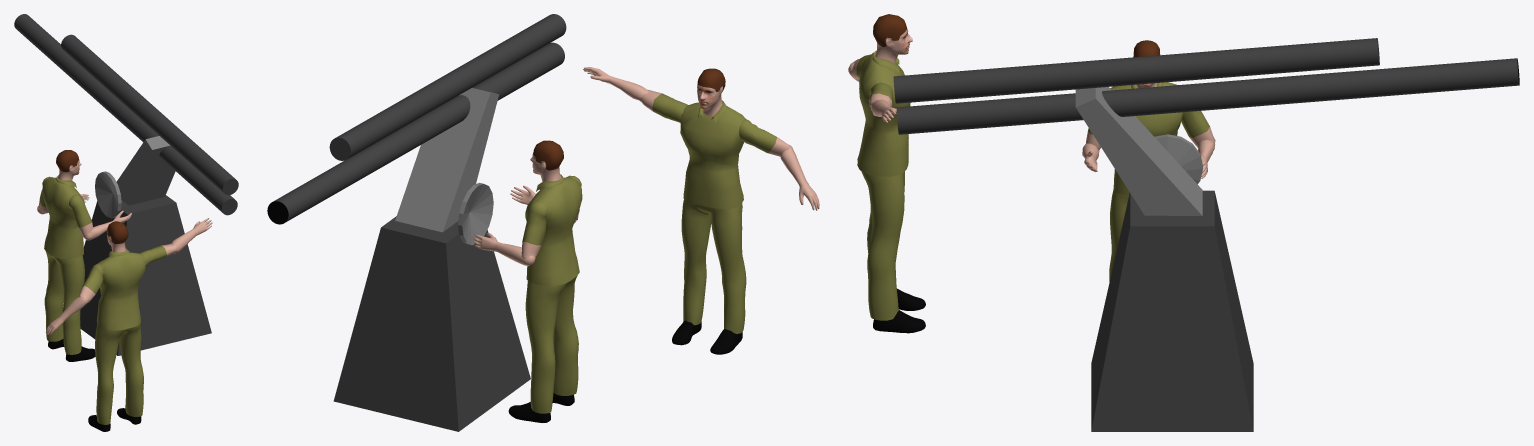
Rendered from gunAA_crew.glb.
The picture shows the model from 3 angles, left to right: view 1: azimuth 30°, elevation 25°; view 2: azimuth 150°, elevation 25°; view 3: azimuth 270°, elevation 25°; orthographic projection. The views are drawn at different scales.
Visible parts, largest first — view 1: base, barrel, crew1, crew2, rotator, Cylinder.001, head.001, armR.001, head.010, armL.010, armL2.010, armR2.010 (+4 smaller); view 2: base, barrel, crew1, crew2, rotator, Cylinder.001, head.001, head.010, armL.001, shoes.010, armL.010, armR.010 (+4 smaller); view 3: base, barrel, crew1, rotator, crew2, head.010, shoes.010, Cylinder.001, armL.001.
Boxes of the visible parts, left/top/right/bottom form: base: left=80, top=195, right=211, bottom=355; barrel: left=14, top=14, right=238, bottom=215; crew1: left=95, top=252, right=145, bottom=424; crew2: left=42, top=177, right=84, bottom=354; rotator: left=116, top=136, right=175, bottom=205; Cylinder.001: left=95, top=171, right=121, bottom=218; head.001: left=56, top=150, right=81, bottom=180; armR.001: left=69, top=194, right=93, bottom=237; head.010: left=107, top=221, right=128, bottom=252; armL.010: left=78, top=264, right=103, bottom=302; armL2.010: left=46, top=296, right=88, bottom=335; armR2.010: left=171, top=218, right=212, bottom=253; base: left=333, top=216, right=530, bottom=431; barrel: left=267, top=14, right=566, bottom=224; crew1: left=680, top=102, right=746, bottom=333; crew2: left=525, top=177, right=582, bottom=413; rotator: left=395, top=88, right=499, bottom=232; Cylinder.001: left=458, top=182, right=493, bottom=245; head.001: left=530, top=140, right=563, bottom=181; head.010: left=697, top=68, right=725, bottom=116; armL.001: left=521, top=201, right=547, bottom=259; shoes.010: left=672, top=320, right=742, bottom=354; armL.010: left=739, top=119, right=789, bottom=156; armR.010: left=641, top=89, right=688, bottom=122; base: left=1091, top=190, right=1253, bottom=431; barrel: left=893, top=38, right=1519, bottom=134; crew1: left=857, top=52, right=910, bottom=320; rotator: left=1075, top=87, right=1202, bottom=215; crew2: left=1109, top=82, right=1183, bottom=281; head.010: left=873, top=14, right=912, bottom=63; shoes.010: left=873, top=288, right=925, bottom=333; Cylinder.001: left=1154, top=134, right=1202, bottom=184; armL.001: left=1181, top=111, right=1215, bottom=147.
Bounding box in the file's own units: 2.9 × 2.84 × 4.75.
8 materials, 1 textured.
